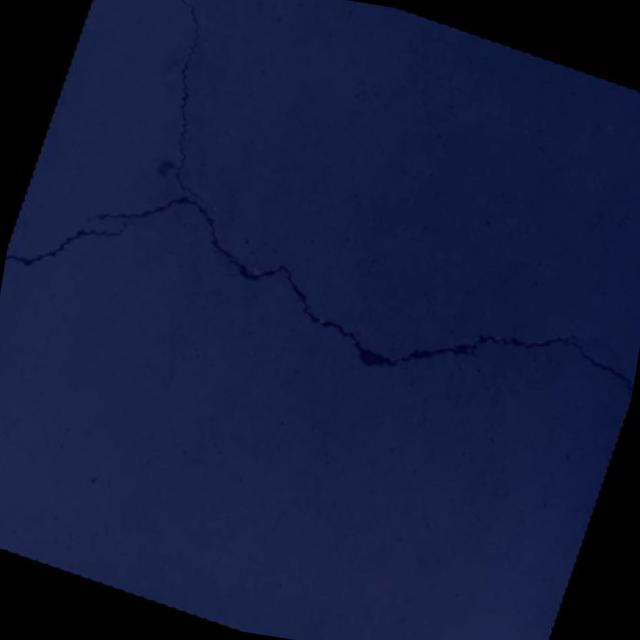crack: (1, 0, 640, 453), (2, 181, 146, 304), (236, 497, 296, 622)
